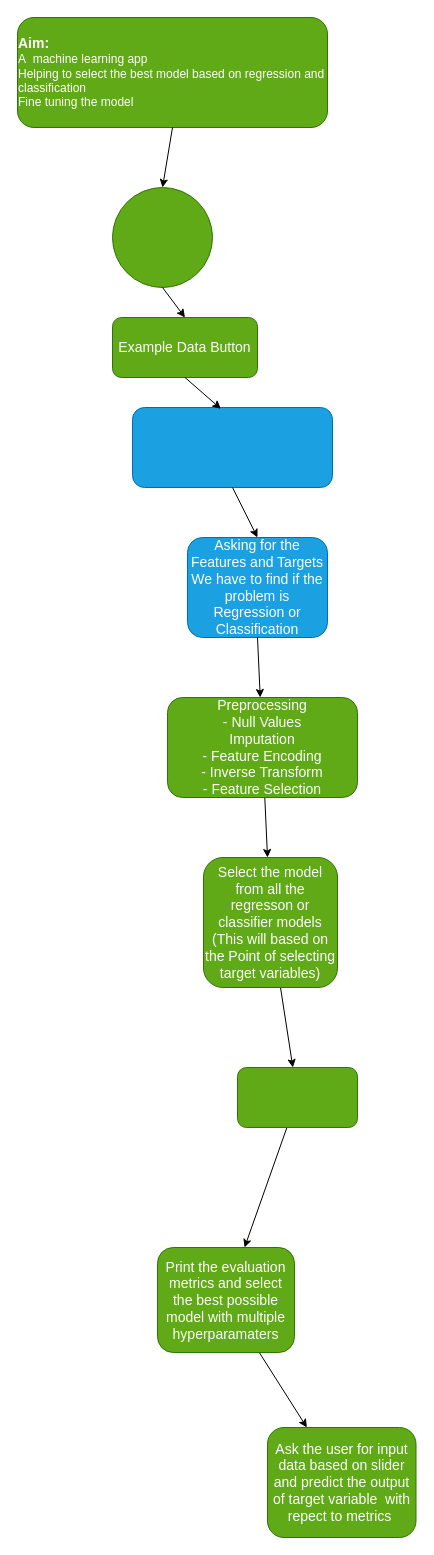
Some shapes in this 434 by 1555 pixel diagram are drawn without their labels. The shapes that lost their labels are listed below. From the top down, each one's centre as x and y in pixels, then its label:
the point at 162,237: Load the data or upload the data
the point at 232,447: Check the column names and data types
the point at 297,1097: Add the evaluation metrics based on problem
